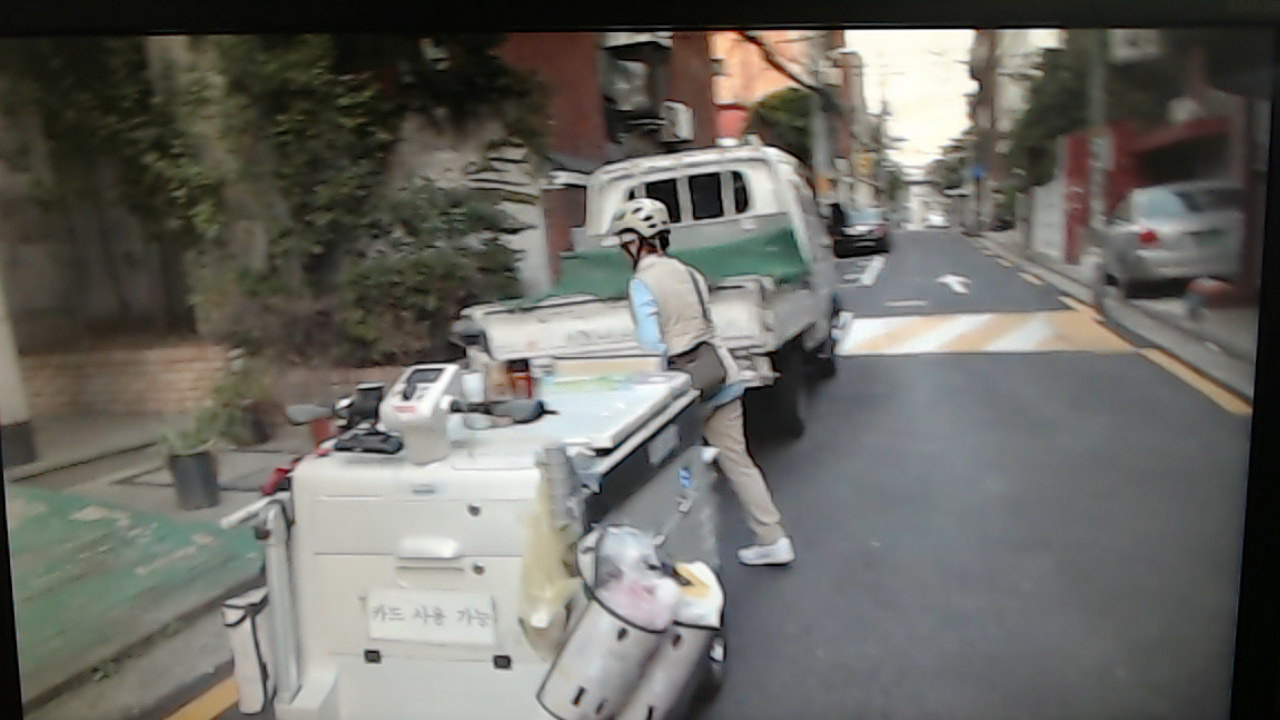Yakurut: (612, 180, 804, 579)
